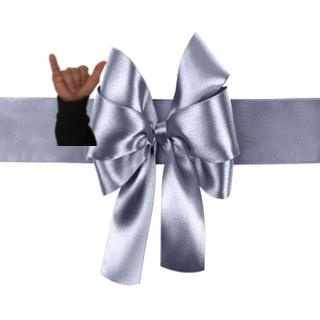HAVE: (39, 49, 114, 104)
